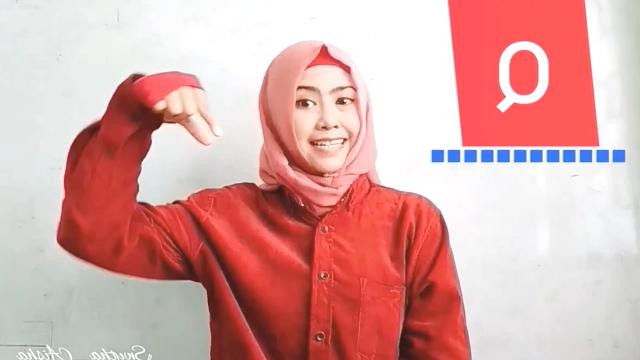Q: (127, 65, 223, 149)
